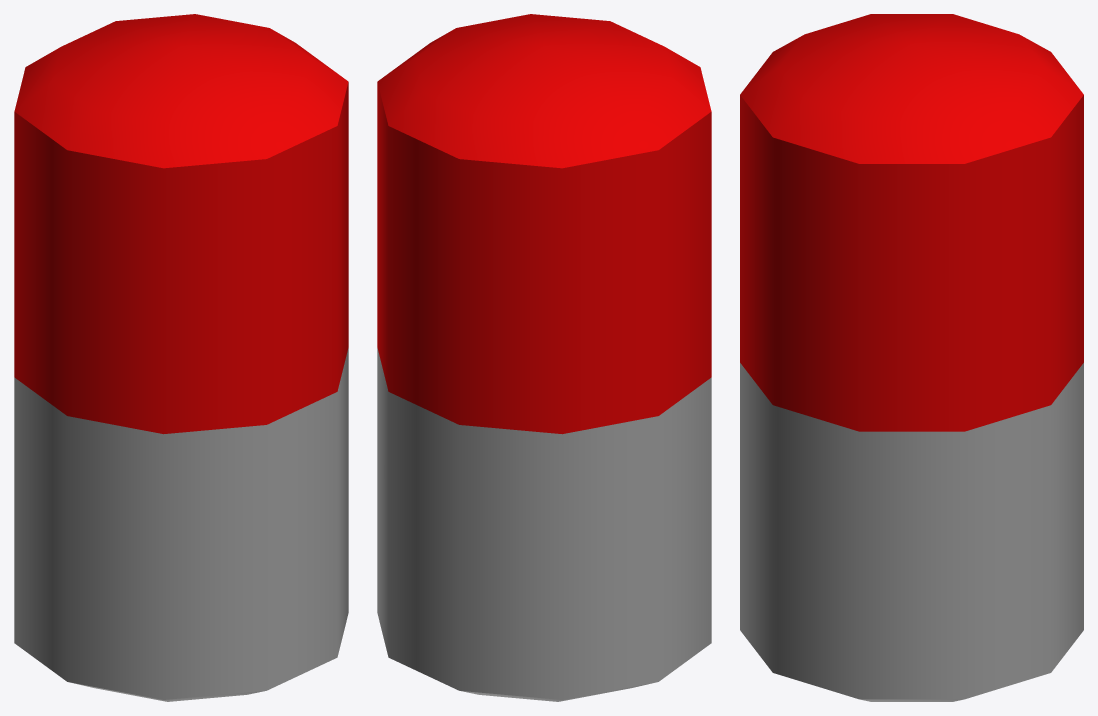
The model's file is Pill.fbx.
The picture shows the model from 3 angles, left to right: view 1: azimuth 30°, elevation 25°; view 2: azimuth 150°, elevation 25°; view 3: azimuth 270°, elevation 25°; orthographic projection.
Visible parts, largest first — view 1: pCylinder1; view 2: pCylinder1; view 3: pCylinder1.
Boxes of the visible parts, bbox=[...] form: pCylinder1: bbox=[14, 14, 348, 701]; pCylinder1: bbox=[377, 14, 711, 701]; pCylinder1: bbox=[740, 14, 1083, 701].
Bounding box in the file's own units: 35.27 × 73.98 × 37.09.
